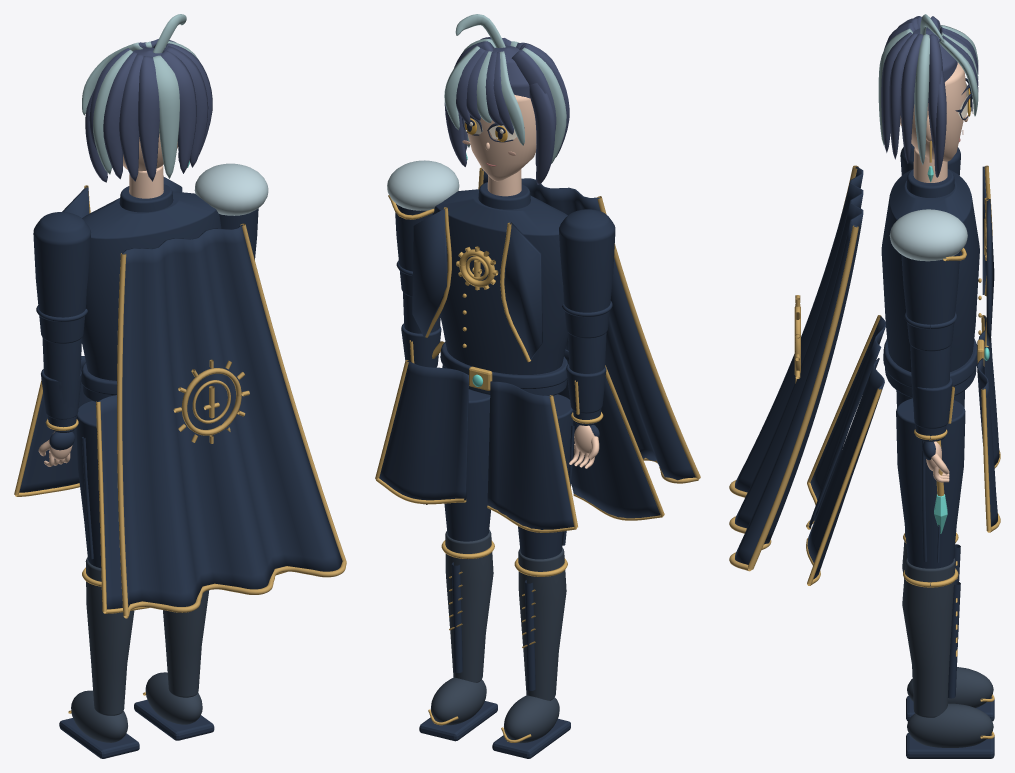
Rendered from field_enemy.glb.
3 renders of one model, left to right at view 1: azimuth 30°, elevation 25°; view 2: azimuth 150°, elevation 25°; view 3: azimuth 270°, elevation 25°, orthographic. The views are drawn at different scales.
Visible parts, largest first — view 1: Cape_anime_navy, Torso_anime_navy, Head_anime_dark_hair, Cape_gold, ArmL_anime_navy, Knee_anime_boots, Rig_anime_navy, Knee.001_anime_boots, Head_anime_hair_shadow, Elbow_anime_navy, LegL_anime_navy, ArmR_anime_silver (+5 smaller); view 2: Rig_anime_navy, Torso_anime_navy, Cape_anime_navy, Head_anime_dark_hair, Knee.001_anime_boots, Knee_anime_boots, ArmL_anime_navy, Head_anime_hair_shadow, LegR_anime_navy, Head_anime_skin, Rig_anime_gold, Torso_anime_gold (+11 smaller); view 3: Cape_anime_navy, Torso_anime_navy, Knee.001_anime_boots, Rig_anime_navy, LegR_anime_navy, Head_anime_dark_hair, ArmR_anime_navy, Cape_gold, Elbow.001_anime_navy, Head_anime_hair_shadow, ArmR_anime_silver, Rig_anime_gold (+8 smaller).
Boxes of the visible parts, x1,y1,x2,y2 form: Cape_anime_navy: [122, 224, 342, 607]; Torso_anime_navy: [62, 177, 221, 401]; Head_anime_dark_hair: [85, 39, 212, 182]; Cape_gold: [117, 223, 346, 618]; ArmL_anime_navy: [33, 212, 90, 343]; Knee_anime_boots: [71, 557, 134, 742]; Rig_anime_navy: [19, 356, 122, 609]; Knee.001_anime_boots: [145, 590, 209, 724]; Head_anime_hair_shadow: [82, 14, 198, 178]; Elbow_anime_navy: [41, 337, 81, 432]; LegL_anime_navy: [76, 401, 101, 568]; ArmR_anime_silver: [194, 163, 268, 215]; Rig_anime_navy: [379, 349, 660, 529]; Torso_anime_navy: [412, 182, 567, 395]; Cape_anime_navy: [482, 169, 695, 480]; Head_anime_dark_hair: [444, 37, 569, 184]; Knee.001_anime_boots: [431, 530, 493, 725]; Knee_anime_boots: [504, 547, 566, 743]; ArmL_anime_navy: [559, 209, 615, 338]; Head_anime_hair_shadow: [444, 14, 566, 163]; LegR_anime_navy: [444, 389, 490, 541]; Head_anime_skin: [467, 94, 536, 196]; Rig_anime_gold: [375, 341, 664, 532]; Torso_anime_gold: [425, 207, 530, 390]; Cape_anime_navy: [735, 167, 863, 564]; Torso_anime_navy: [881, 166, 994, 397]; Knee.001_anime_boots: [902, 558, 993, 747]; Rig_anime_navy: [807, 316, 999, 579]; LegR_anime_navy: [896, 398, 965, 568]; Head_anime_dark_hair: [881, 16, 978, 177]; ArmR_anime_navy: [901, 251, 960, 351]; Cape_gold: [729, 165, 858, 571]; Elbow.001_anime_navy: [910, 344, 952, 441]; Head_anime_hair_shadow: [878, 14, 978, 164]; ArmR_anime_silver: [889, 209, 967, 261]; Rig_anime_gold: [806, 315, 1000, 585].
Bounding box in the file's own units: 0.6825 × 2.06 × 0.6943.
